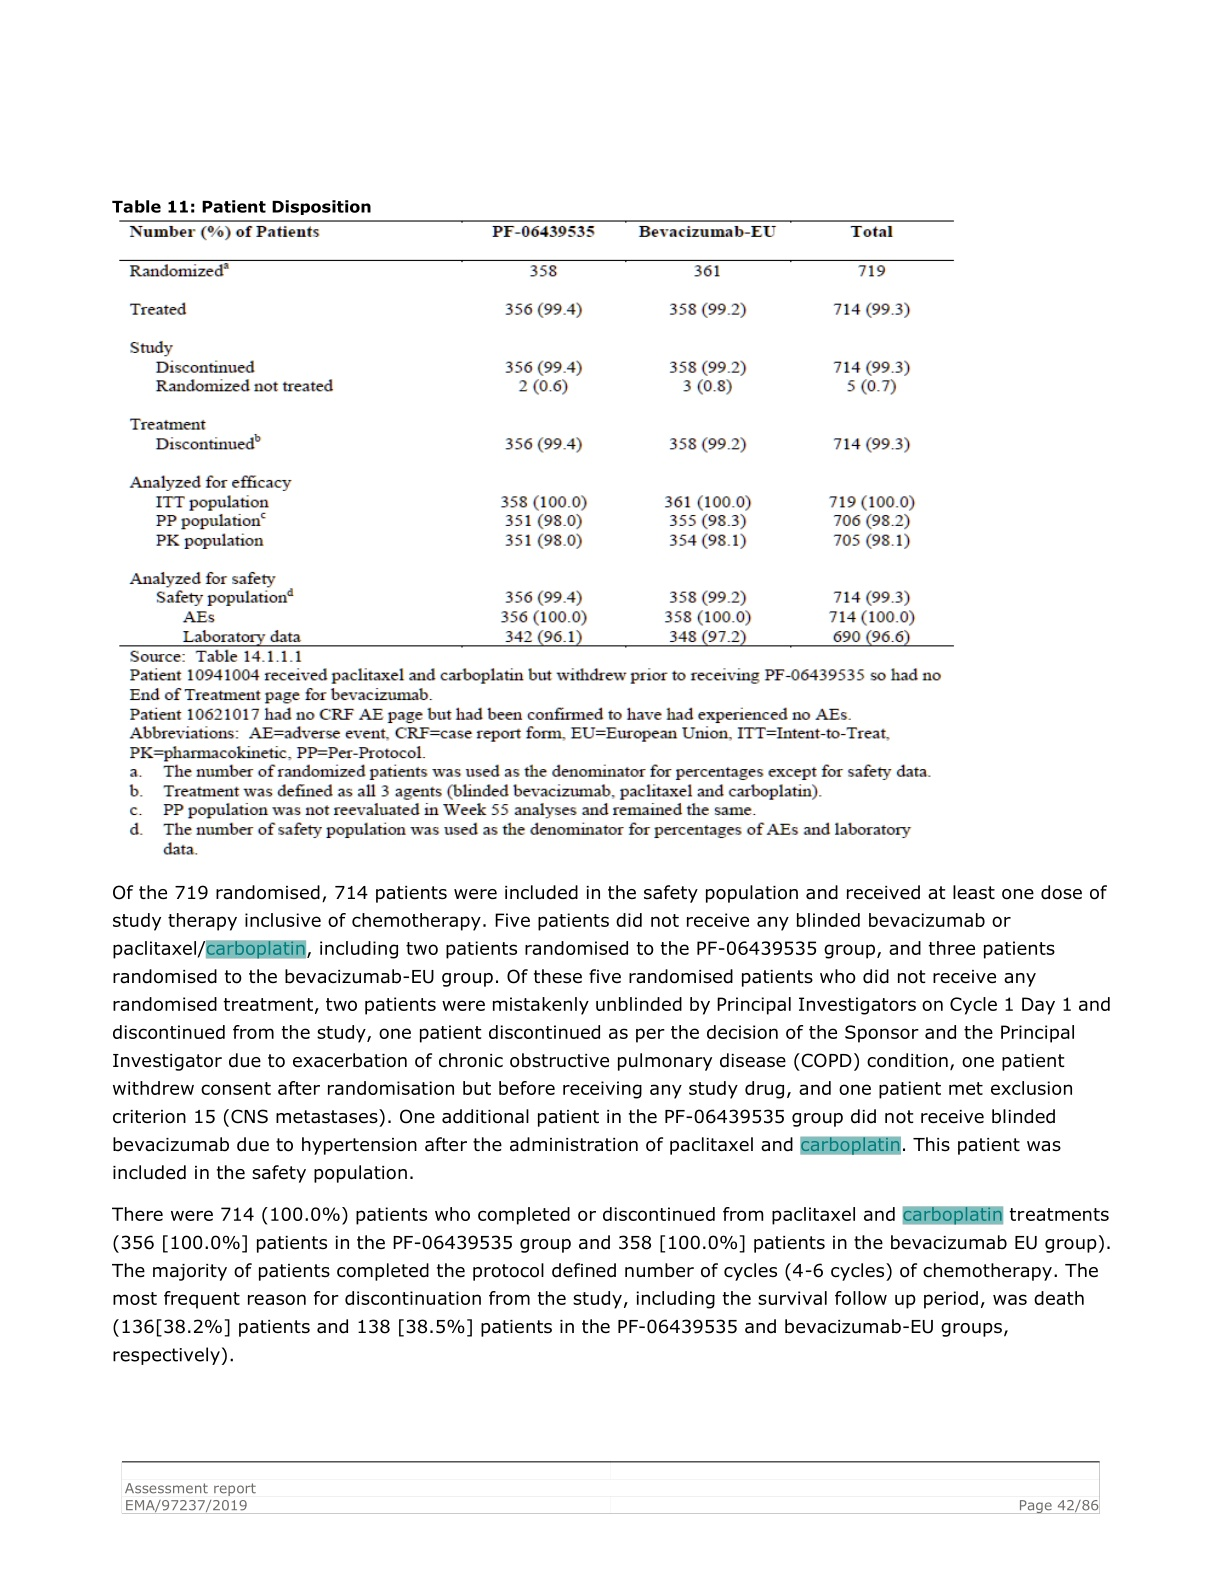partial_lined_merged_cells: (117, 219, 955, 649)
